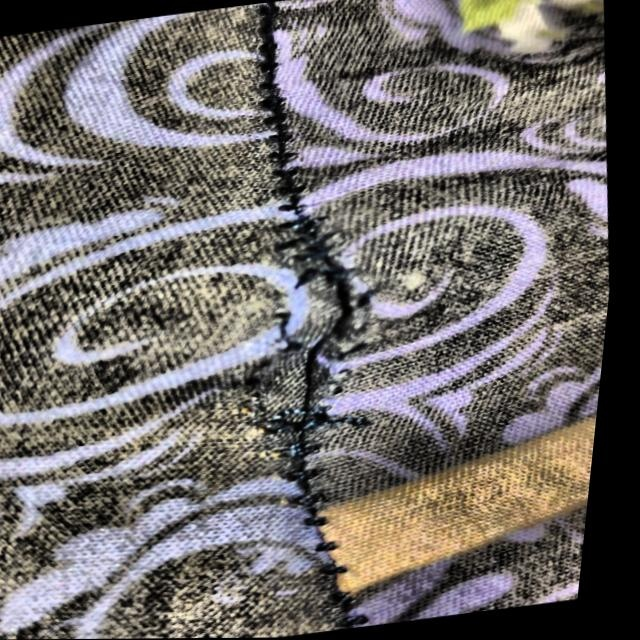seam: (122, 119, 484, 576)
